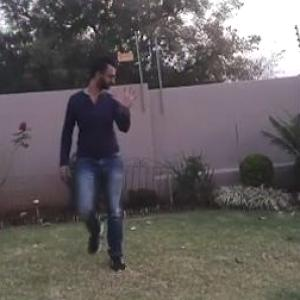follow_hand: (116, 81, 142, 113)
